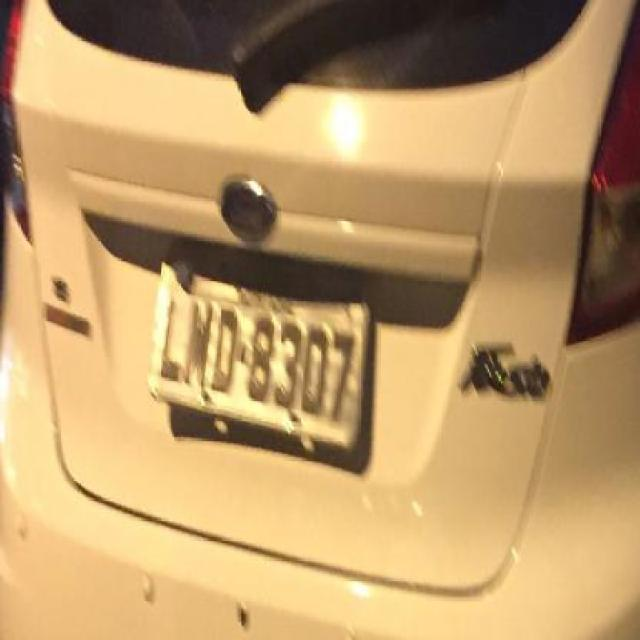old_plate: (147, 233, 381, 466)
